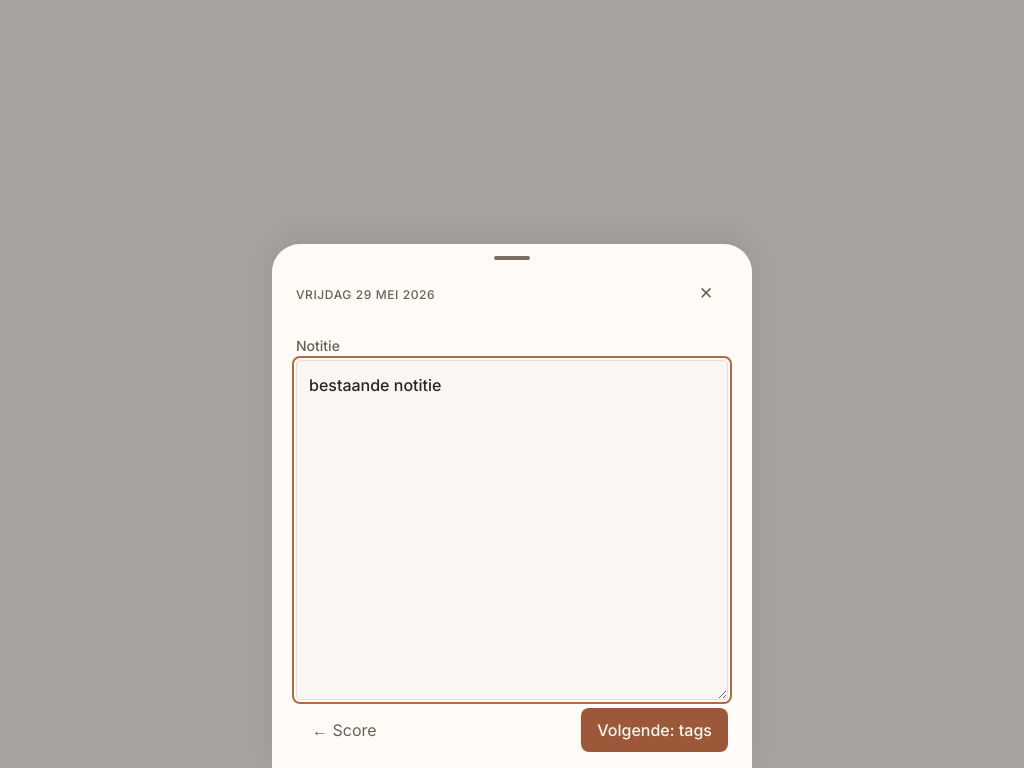
Test case: <QuickEntryFlow /> › given the note step + forward, when pressed, then the flow morphs to the tags step (forward becomes "Klaar")
Step 1. Click the button "Volgende: tags" → click(655, 730), box [581, 708, 728, 752]
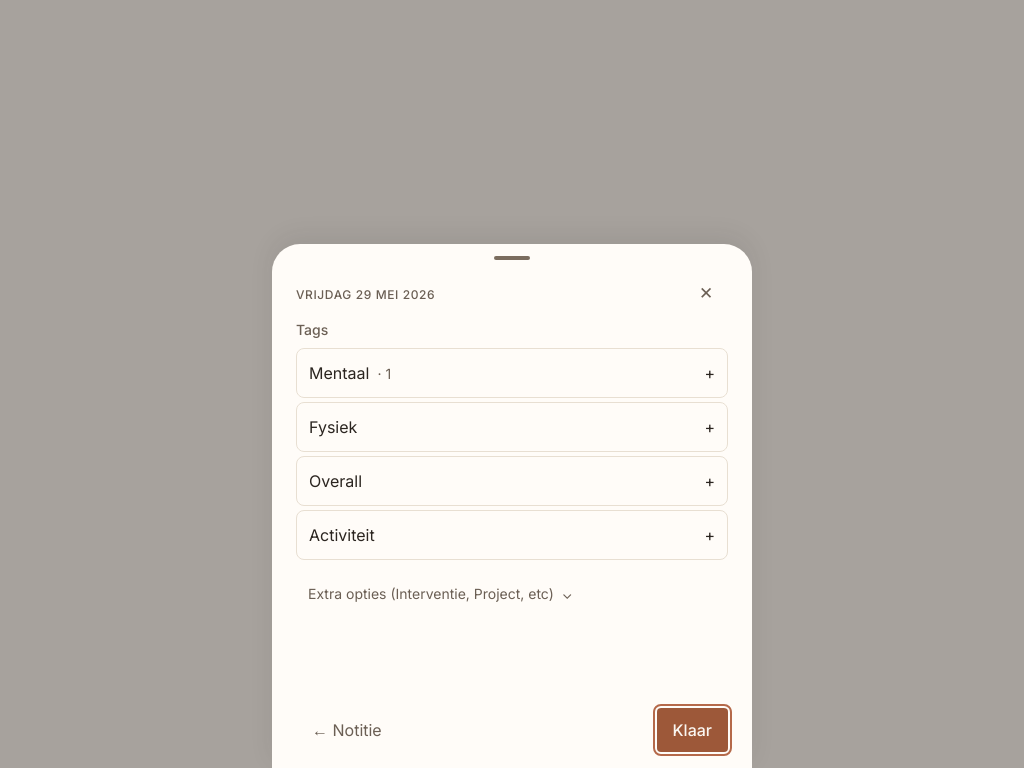
expect the button "Klaar" is shown: met, box [657, 708, 728, 752]
